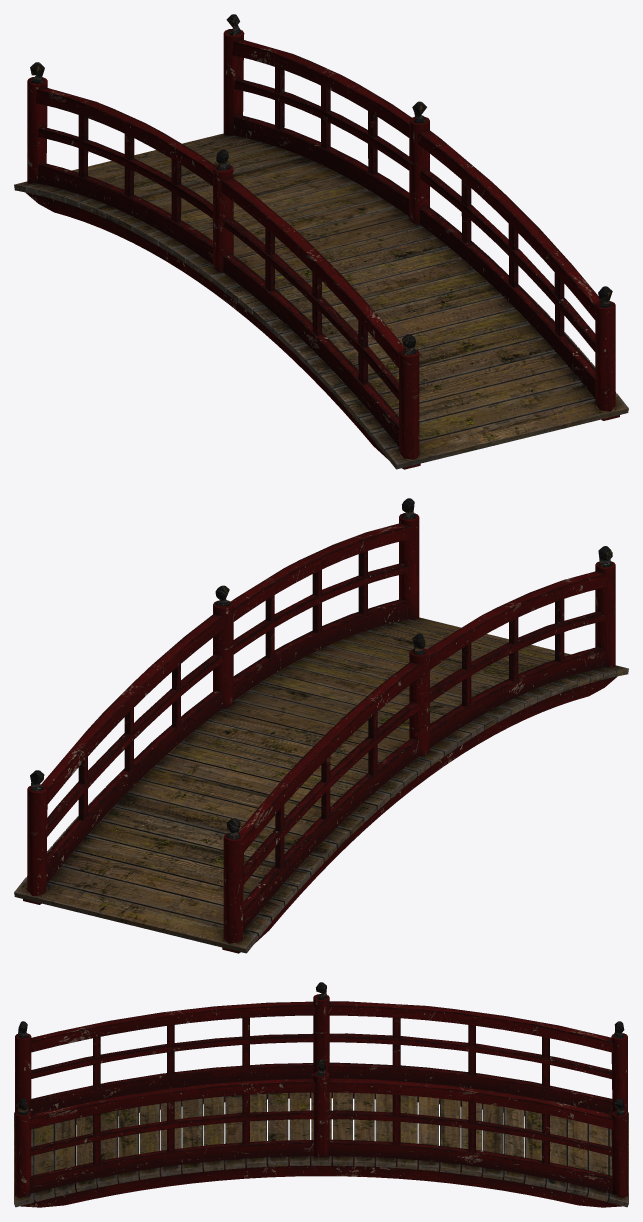
Rendered from NNJ0710007.fbx.
3 views of the same model, one above another, from view 1: azimuth 30°, elevation 25°; view 2: azimuth 150°, elevation 25°; view 3: azimuth 270°, elevation 25° (orthographic). The views are drawn at different scales.
Visible parts, largest first — view 1: smNNJ0710007; view 2: smNNJ0710007; view 3: smNNJ0710007.
Boxes of the visible parts, <box> form: smNNJ0710007: <box>14,14,628,469</box>; smNNJ0710007: <box>14,498,628,953</box>; smNNJ0710007: <box>14,982,628,1207</box>.
Size of the model in its own units: 430 by 317 by 1230.
1 material, 1 textured.
